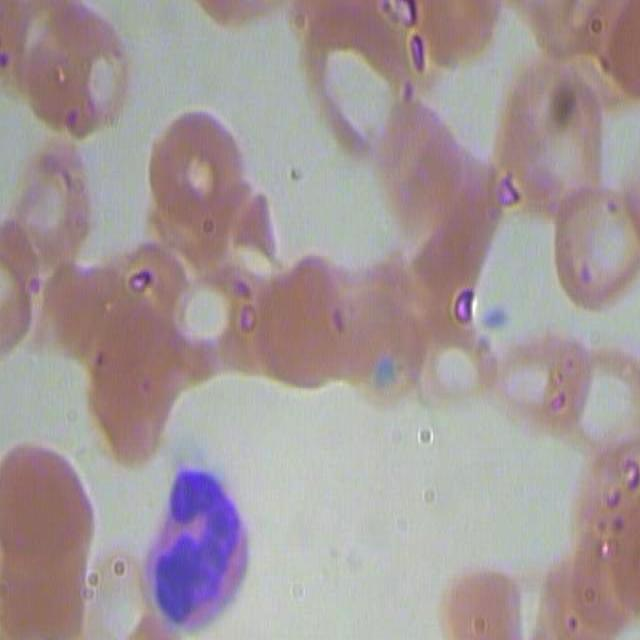RBC: (128, 449, 255, 637), (149, 104, 260, 301), (482, 48, 608, 216), (389, 109, 495, 294), (224, 248, 358, 388), (2, 0, 138, 137), (312, 1, 424, 166), (484, 321, 594, 442), (0, 438, 92, 578), (548, 329, 640, 460), (546, 182, 640, 310), (534, 0, 636, 112), (154, 266, 254, 380), (564, 75, 640, 222), (94, 289, 163, 442), (405, 312, 499, 418), (571, 426, 640, 556), (545, 550, 639, 640), (22, 146, 89, 259), (51, 250, 112, 360), (439, 574, 525, 640)
